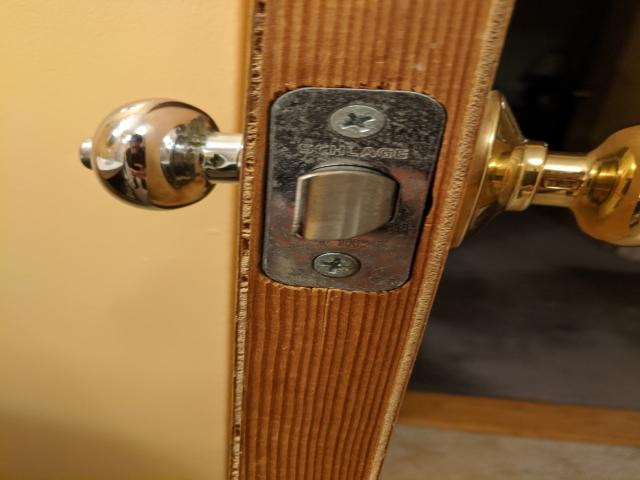CRS: (328, 102, 387, 140), (311, 250, 362, 278)
